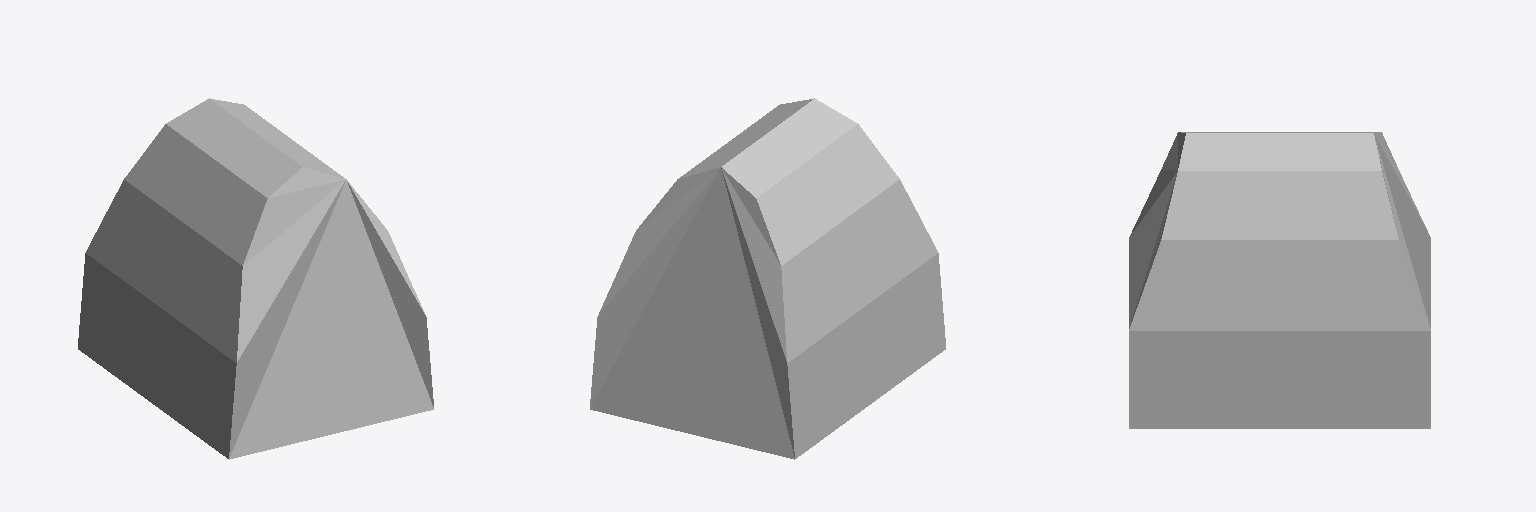
Rendered from door.obj.
The picture shows the model from 3 angles: view 1: azimuth 30°, elevation 25°; view 2: azimuth 150°, elevation 25°; view 3: azimuth 270°, elevation 25°; orthographic projection.
Visible parts, largest first — view 1: Cylinder_Cylinder.001; view 2: Cylinder_Cylinder.001; view 3: Cylinder_Cylinder.001.
Boxes of the visible parts, <box> form: Cylinder_Cylinder.001: <box>78,98,433,459</box>; Cylinder_Cylinder.001: <box>590,98,945,459</box>; Cylinder_Cylinder.001: <box>1129,132,1430,428</box>.
Bounding box in the file's own units: 1.57 × 1.8 × 2.